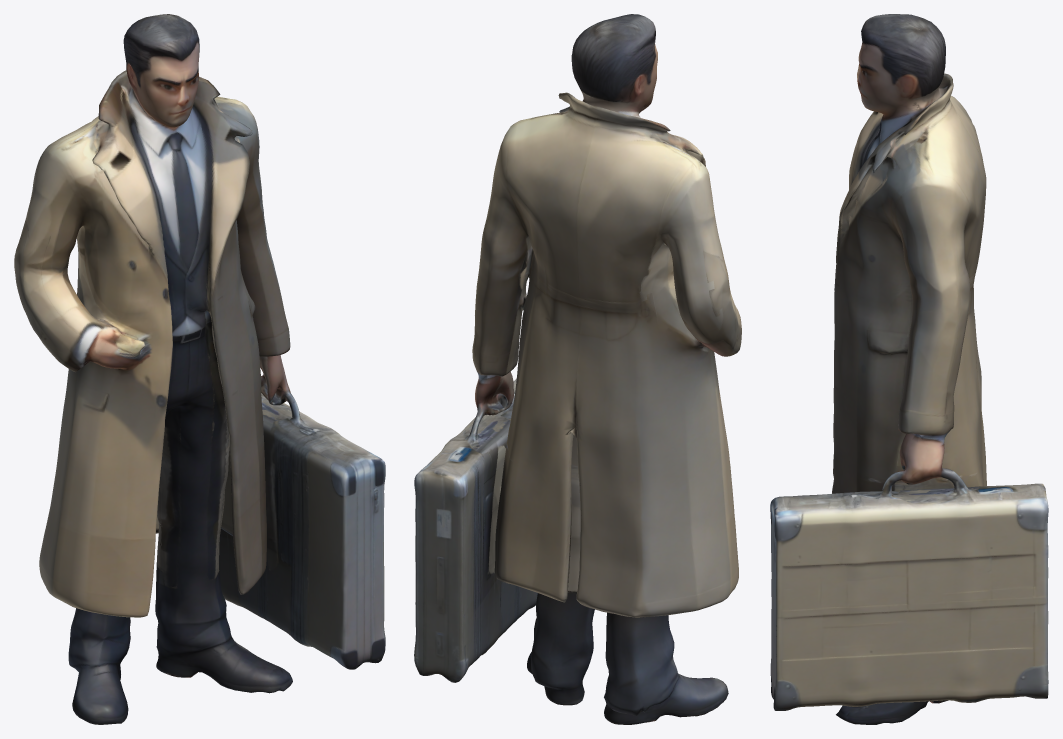
File: Passengers.glb
3 views of the same model, side by side, from view 1: azimuth 30°, elevation 25°; view 2: azimuth 150°, elevation 25°; view 3: azimuth 270°, elevation 25° (orthographic).
Visible parts, largest first — view 1: Mesh1_Mesh1.016; view 2: Mesh1_Mesh1.016; view 3: Mesh1_Mesh1.016.
Boxes of the visible parts, x1,y1,x2,y2 form: Mesh1_Mesh1.016: (14, 14, 385, 724); Mesh1_Mesh1.016: (414, 14, 741, 724); Mesh1_Mesh1.016: (770, 14, 1048, 724).
Size of the model in its own units: 0.8881 by 2 by 0.7631.
1 material, 1 textured.
